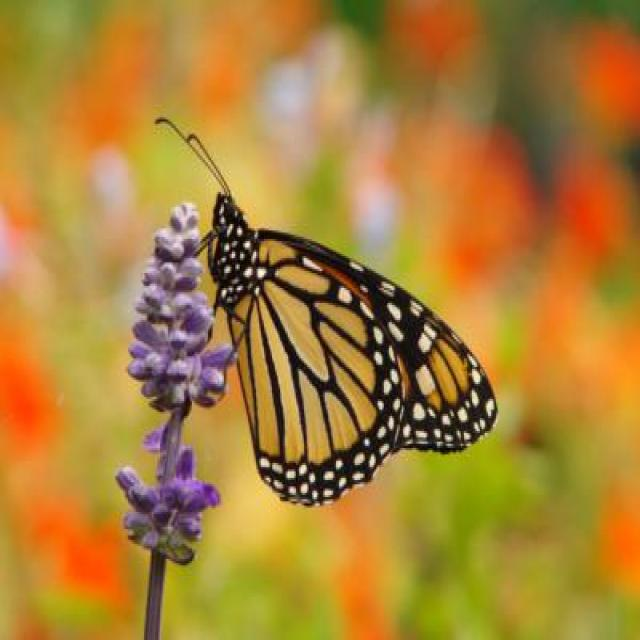antennae: (154, 112, 233, 205)
body: (201, 188, 265, 302)
insect: (153, 110, 500, 509)
legs: (188, 228, 246, 373)
wings: (229, 228, 496, 506)
